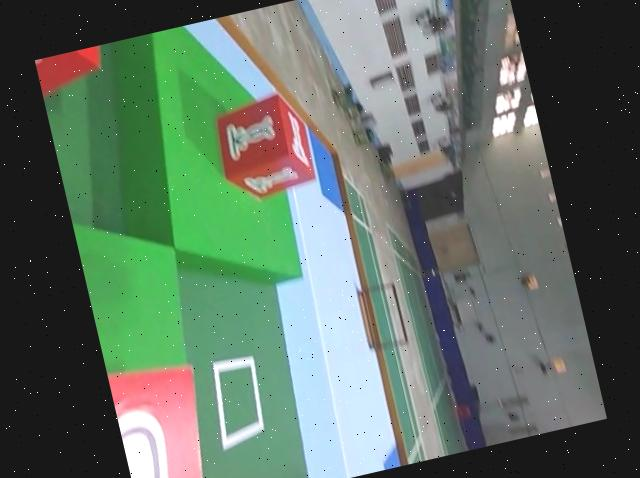R1: (34, 43, 117, 96)
R2 Fake: (106, 356, 225, 478)
R2 Real: (207, 89, 318, 205)
